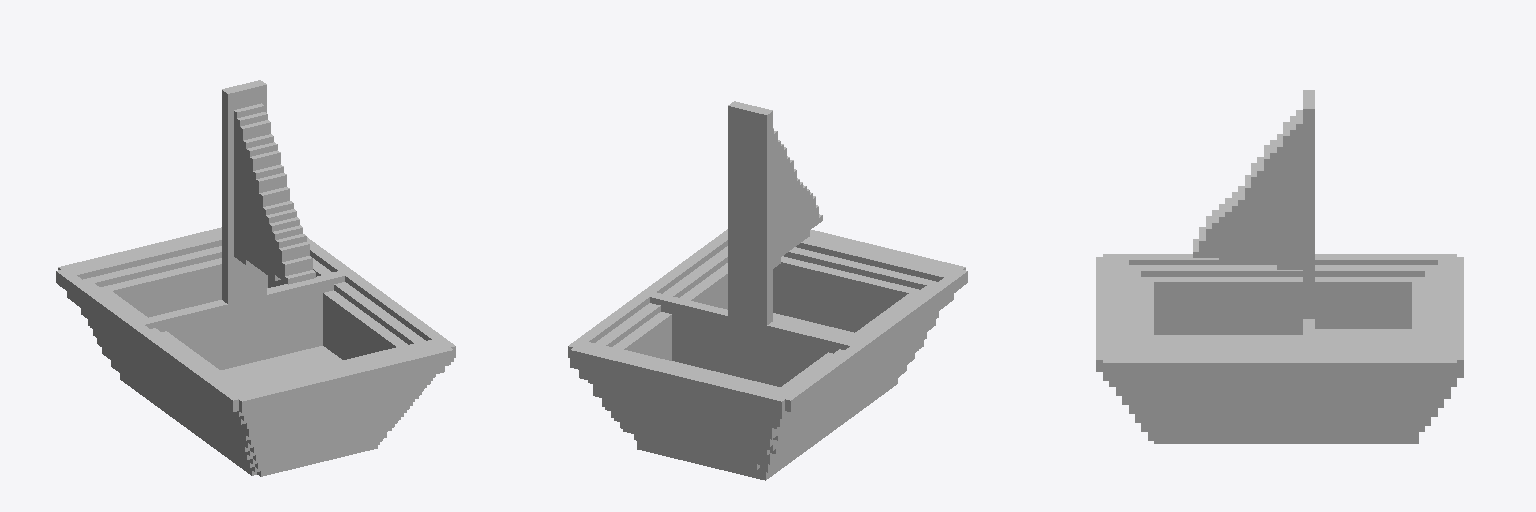
Rendered from ship.obj.
The picture shows the model from 3 angles: view 1: azimuth 30°, elevation 25°; view 2: azimuth 150°, elevation 25°; view 3: azimuth 270°, elevation 25°; orthographic projection.
Bounding box in the file's own units: 40 × 54 × 57.